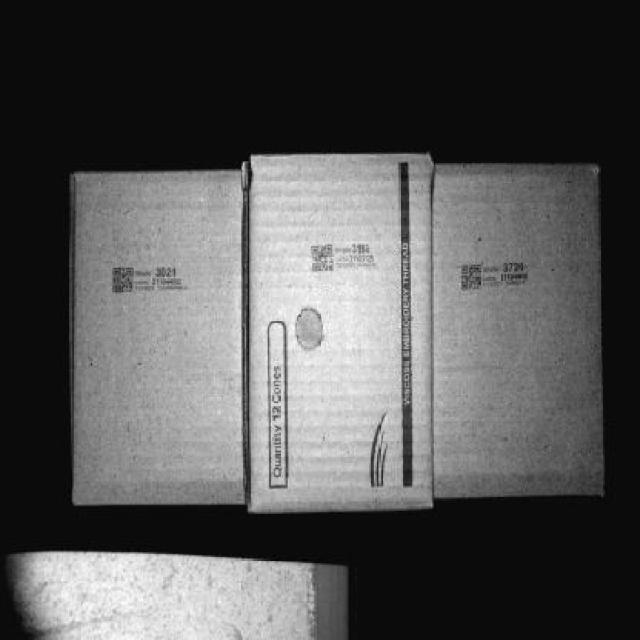cardboxes: (75, 163, 253, 511), (258, 158, 433, 508), (436, 169, 604, 500)
